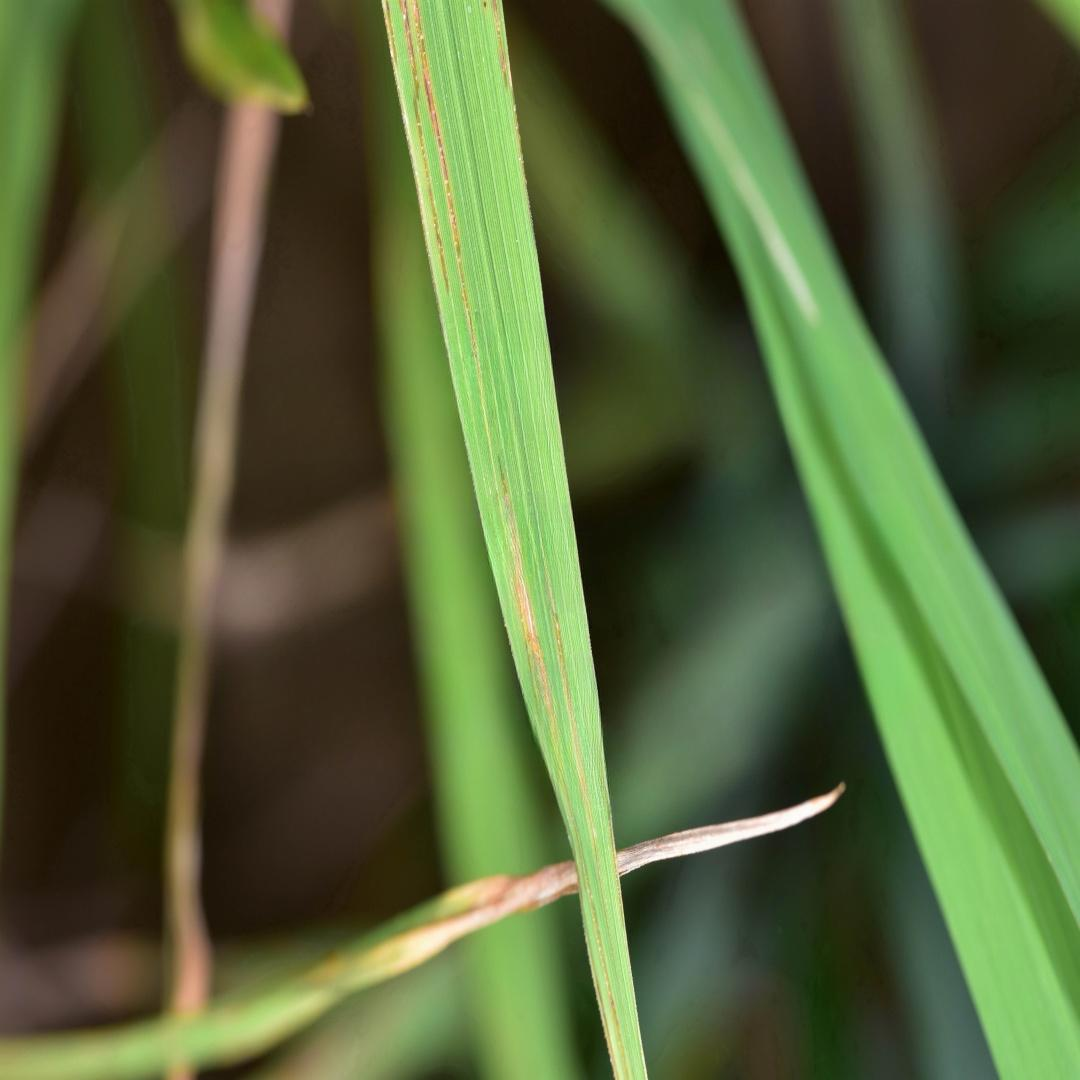BLS: (497, 456, 630, 1079), (410, 1, 498, 503), (544, 568, 611, 939), (398, 0, 452, 296), (382, 1, 431, 249), (585, 934, 619, 1079), (506, 48, 526, 188), (608, 815, 624, 925), (491, 1, 509, 91)
LEAF: (381, 0, 648, 1079)
